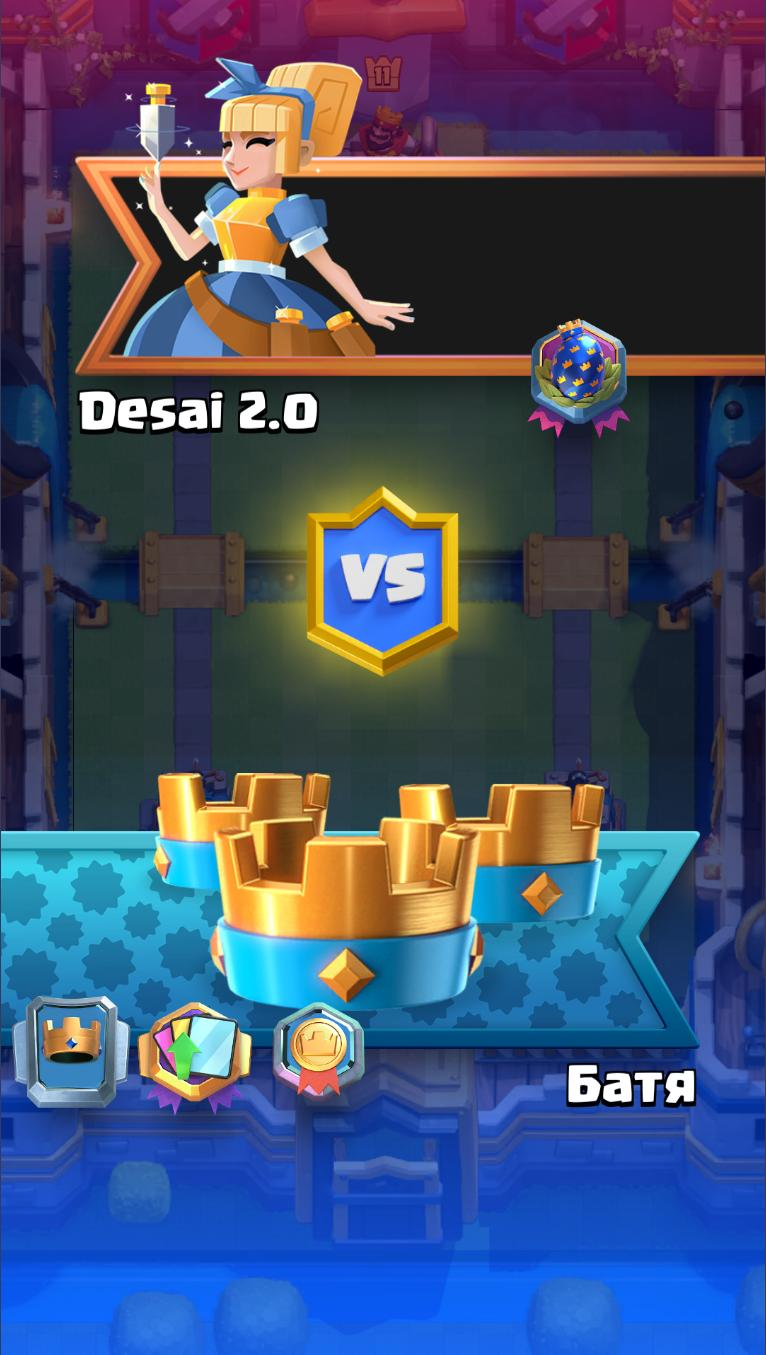GameStart: (0, 771, 700, 1113)
